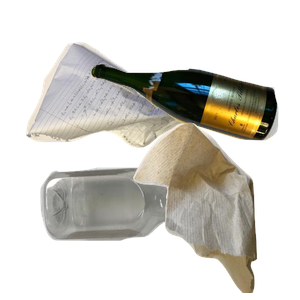glass: (88, 60, 300, 193)
paper: (23, 40, 223, 180)
plastic: (38, 165, 255, 300)
trash: (131, 120, 300, 300)
